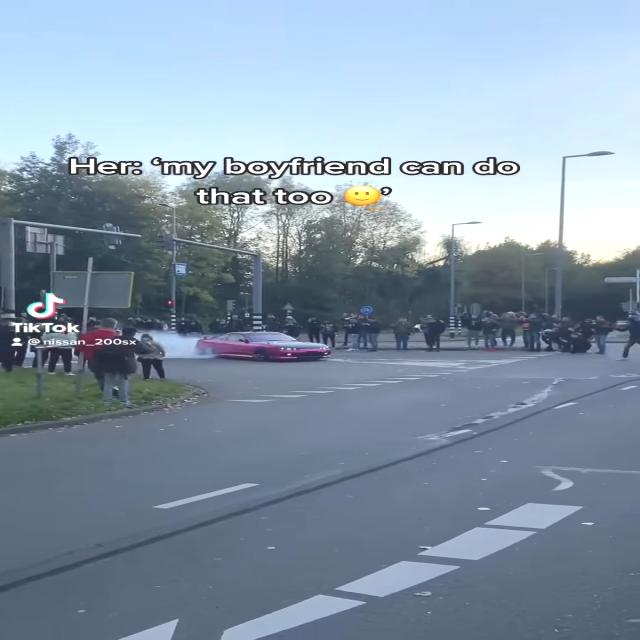car: (202, 328, 333, 366)
